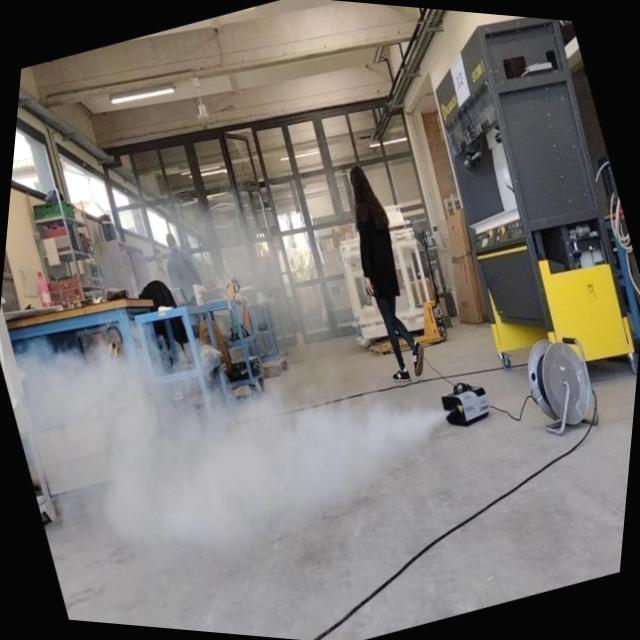smoke: (8, 229, 478, 620)
